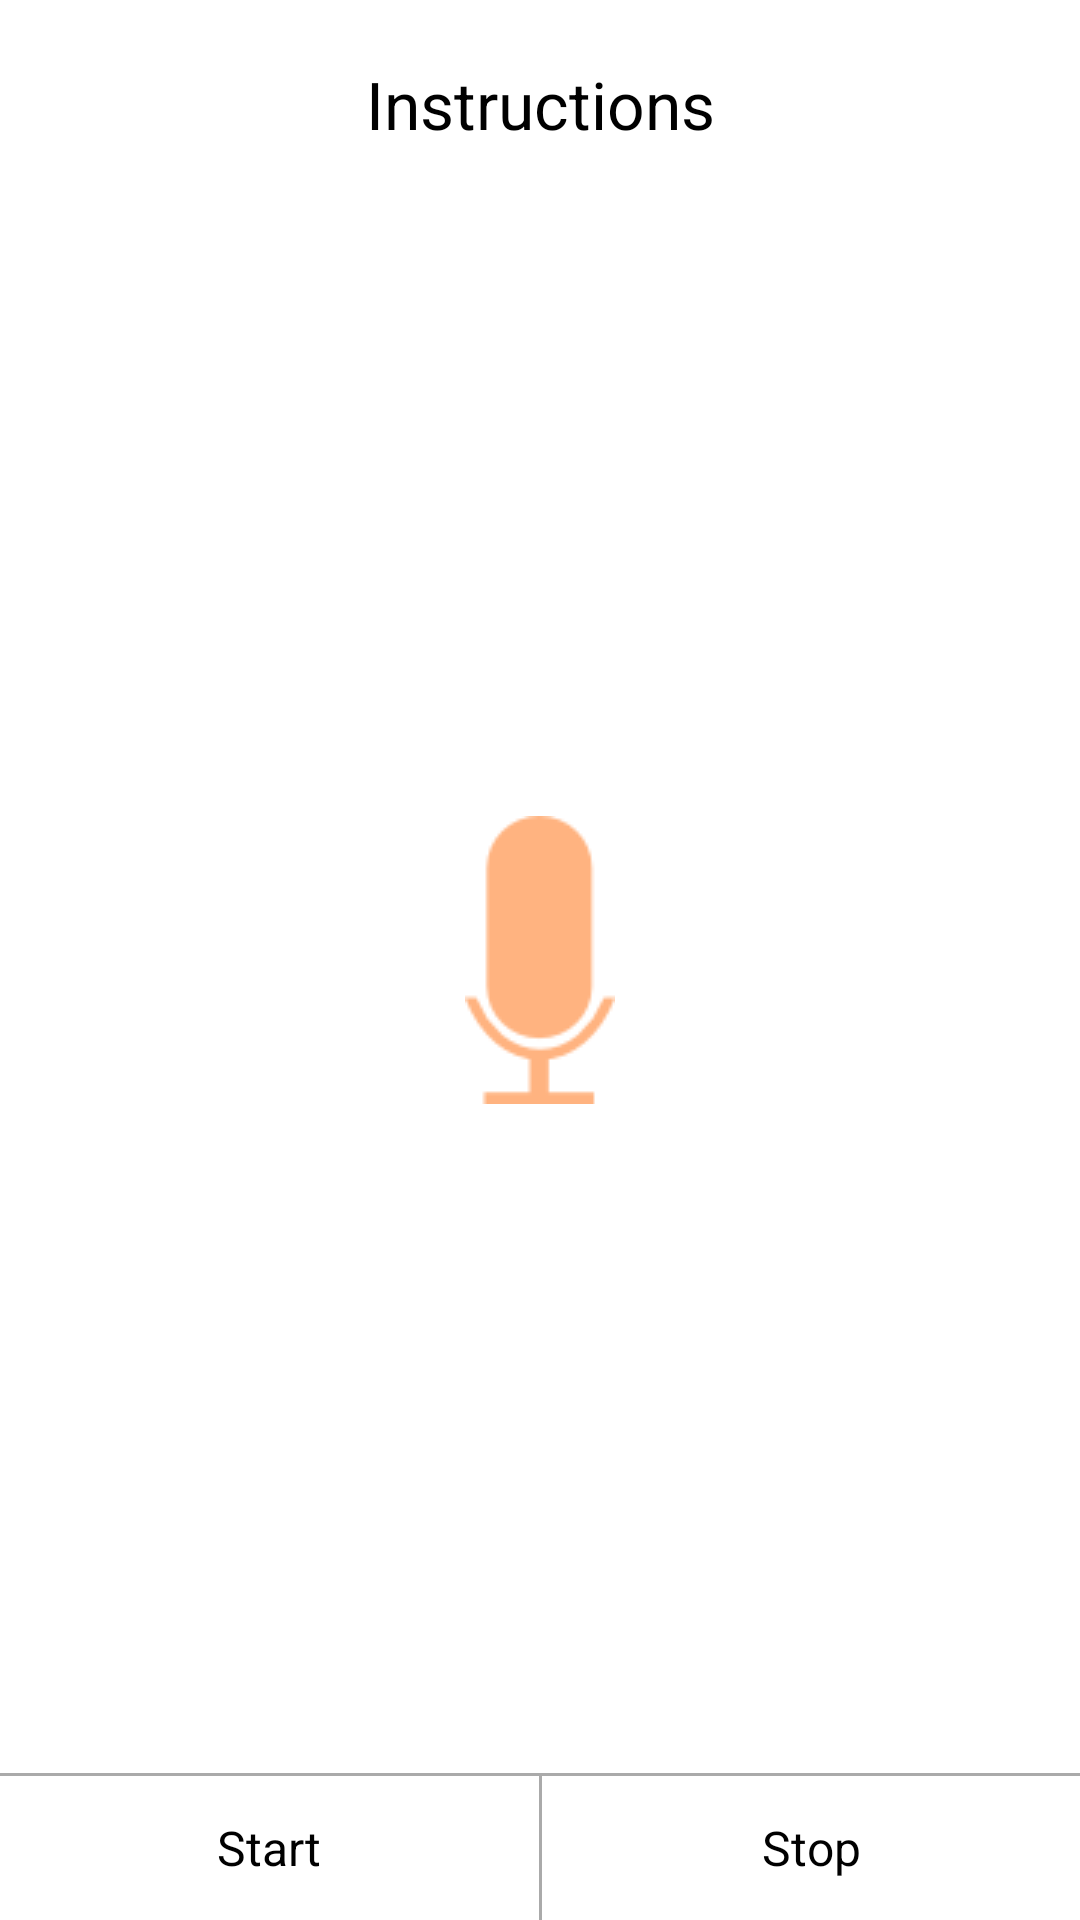

Named icons in this screenshot (1080 × 1920) and their bounding boxes, (left=x1, top=y1, right=x2, bottom=y2):
mic: (left=465, top=816, right=615, bottom=1104)
